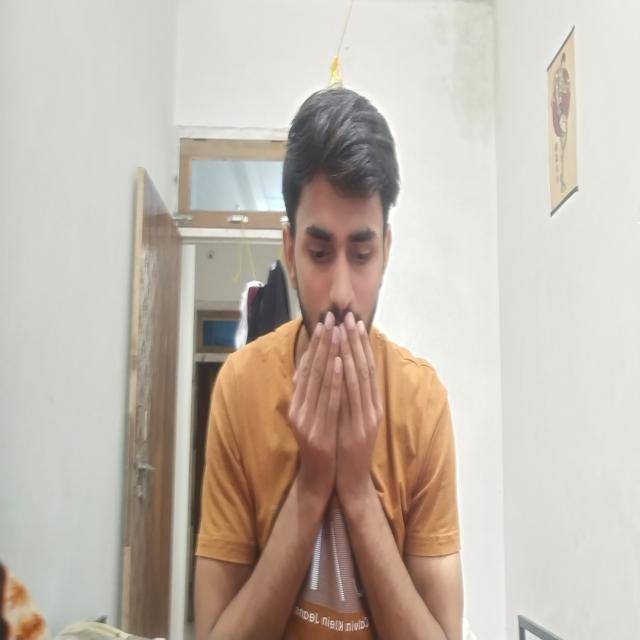Thanks: (273, 284, 424, 587)
